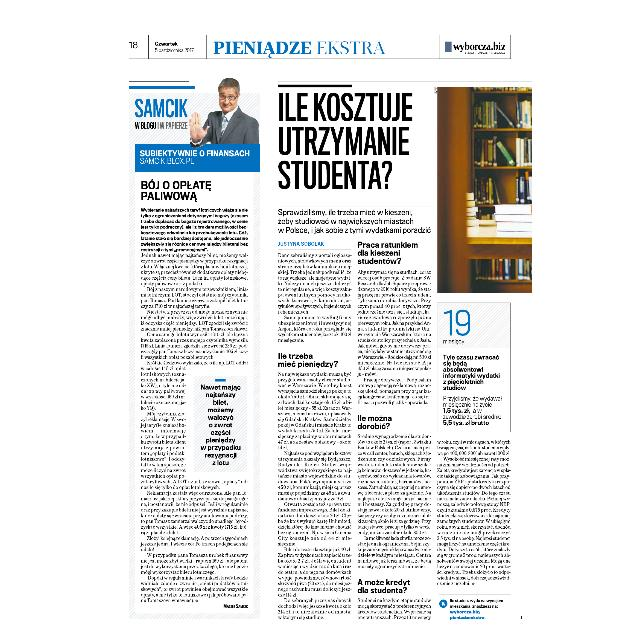article: (276, 82, 534, 624), (127, 84, 250, 610)
